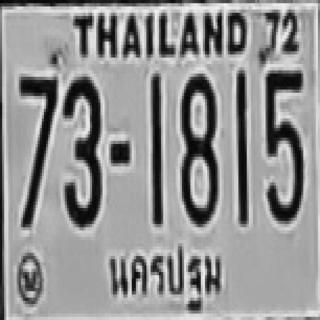N01: (234, 69, 247, 222), (148, 74, 161, 221)
N03: (63, 74, 100, 224)
N05: (263, 67, 301, 221)
N07: (17, 74, 56, 224), (17, 74, 56, 179)
N08: (180, 70, 215, 224)
P28: (105, 237, 223, 314)
